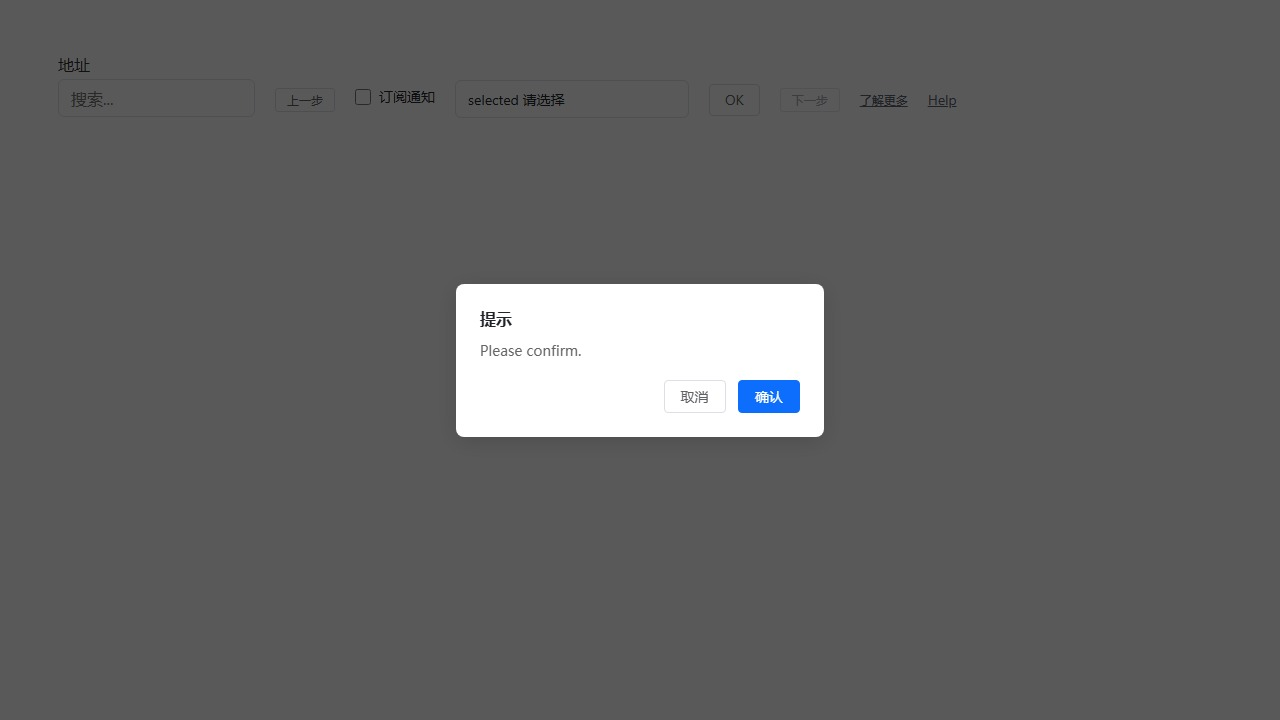button: (664, 380, 726, 412), (738, 380, 800, 412), (709, 83, 760, 115), (275, 87, 335, 111), (780, 87, 840, 111)
checkbox: (355, 89, 371, 105)
icon: (379, 87, 435, 106)
input: (58, 79, 255, 117)
link: (860, 91, 908, 107), (928, 89, 957, 109)
modal: (0, 0, 1280, 720)
radio: (355, 87, 435, 106)
select: (455, 80, 689, 118)
